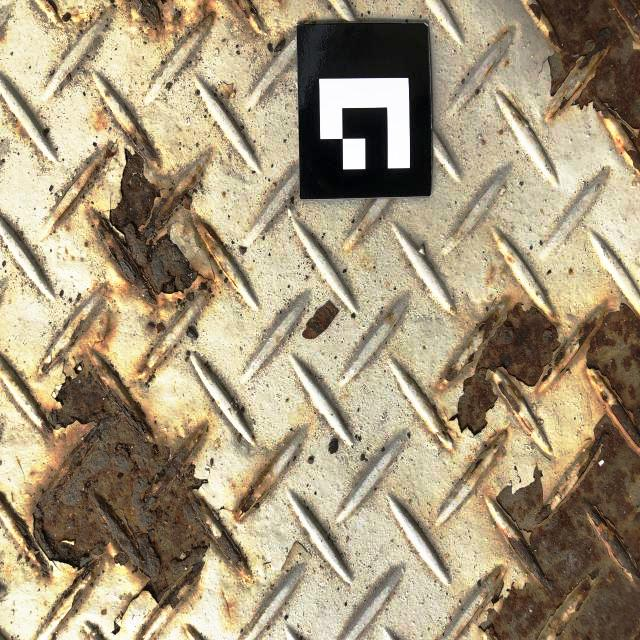Corrosion: (10, 367, 250, 616), (473, 304, 640, 640), (524, 0, 640, 174), (94, 151, 208, 303), (456, 302, 560, 434), (538, 309, 605, 392), (52, 143, 118, 226), (194, 226, 221, 267), (132, 0, 163, 30), (137, 124, 155, 169), (499, 381, 520, 413), (228, 0, 260, 21), (235, 492, 258, 517), (439, 364, 459, 388), (40, 0, 61, 17)
